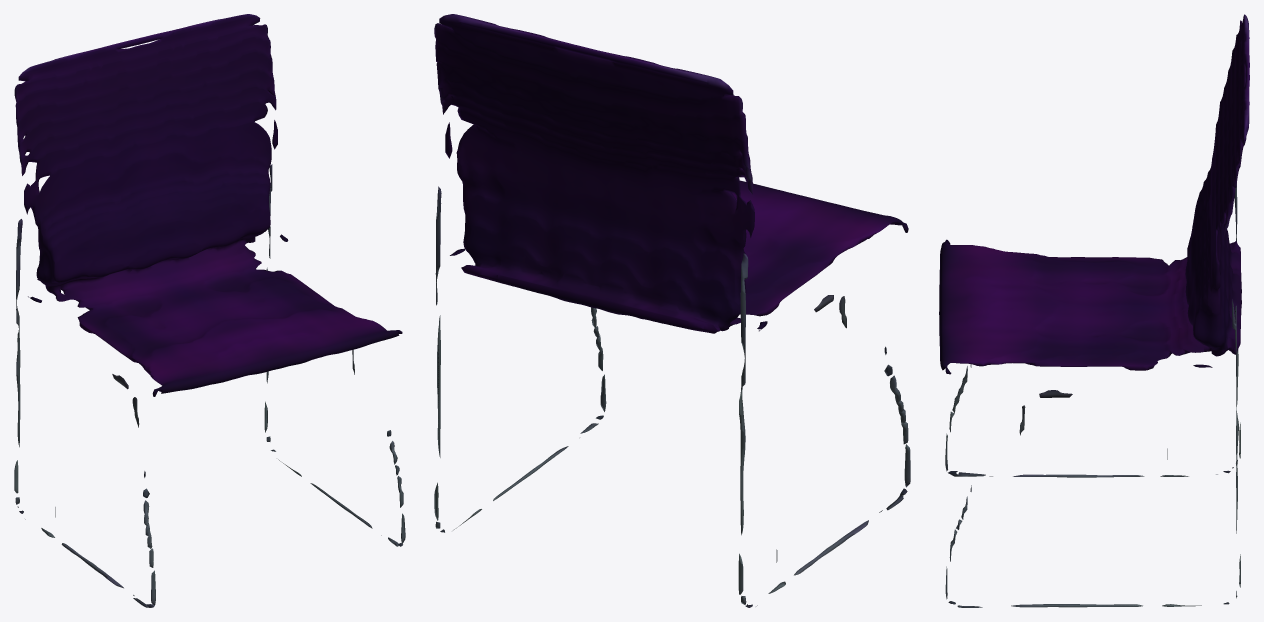
Rendered from A metal chair with black legs and a purple cushion.glb.
3 renders of one model, left to right at view 1: azimuth 30°, elevation 25°; view 2: azimuth 150°, elevation 25°; view 3: azimuth 270°, elevation 25°, orthographic. The views are drawn at different scales.
Parts seen in each view (by area): view 1: A metal chair with black legs and a purple cushion; view 2: A metal chair with black legs and a purple cushion; view 3: A metal chair with black legs and a purple cushion.
Part boxes in pixels (x1=…): A metal chair with black legs and a purple cushion: x1=14, y1=14, x2=405, y2=607; A metal chair with black legs and a purple cushion: x1=434, y1=14, x2=910, y2=607; A metal chair with black legs and a purple cushion: x1=939, y1=14, x2=1249, y2=607.
Bounding box in the file's own units: 1.2 × 1.97 × 1.18.
